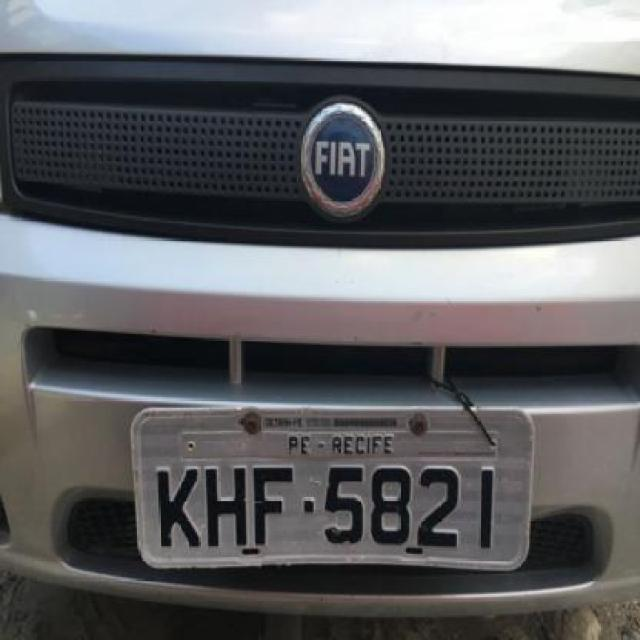old_plate: (121, 400, 544, 580)
